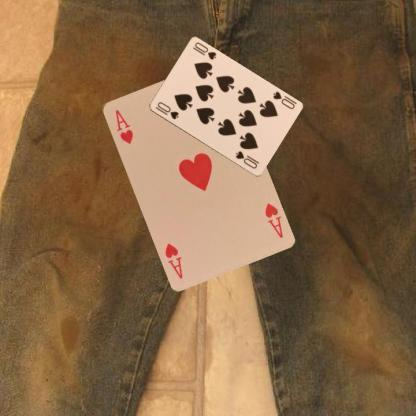10s: (152, 99, 180, 121), (270, 89, 296, 110)
Ah: (112, 106, 134, 146), (262, 200, 284, 240)
